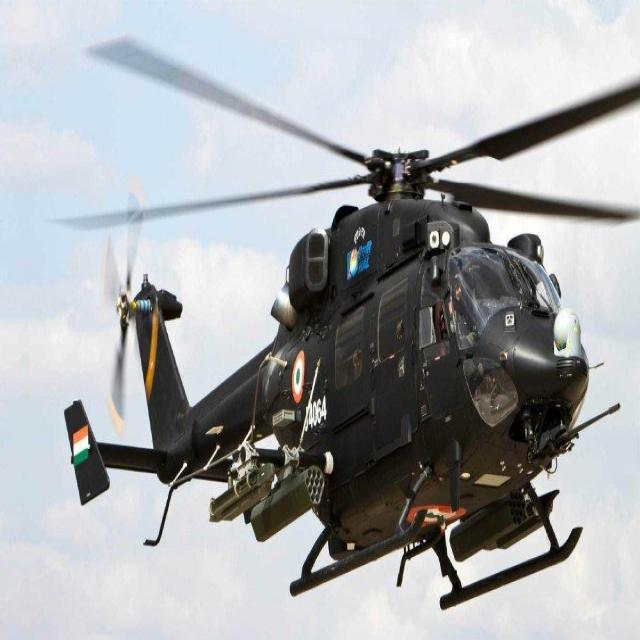MIL_HELO: (30, 51, 640, 621)
